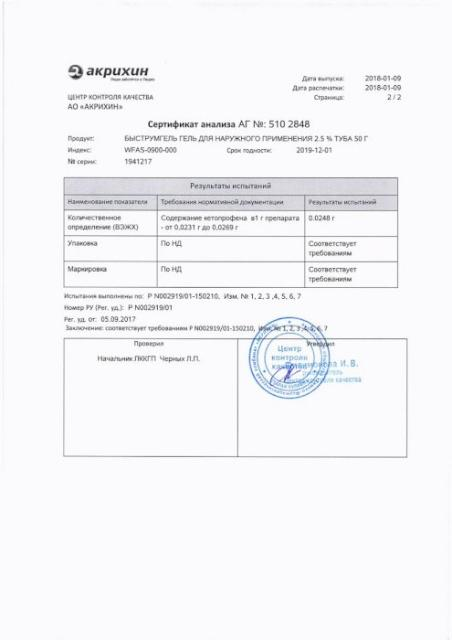stamp: (248, 316, 330, 399)
